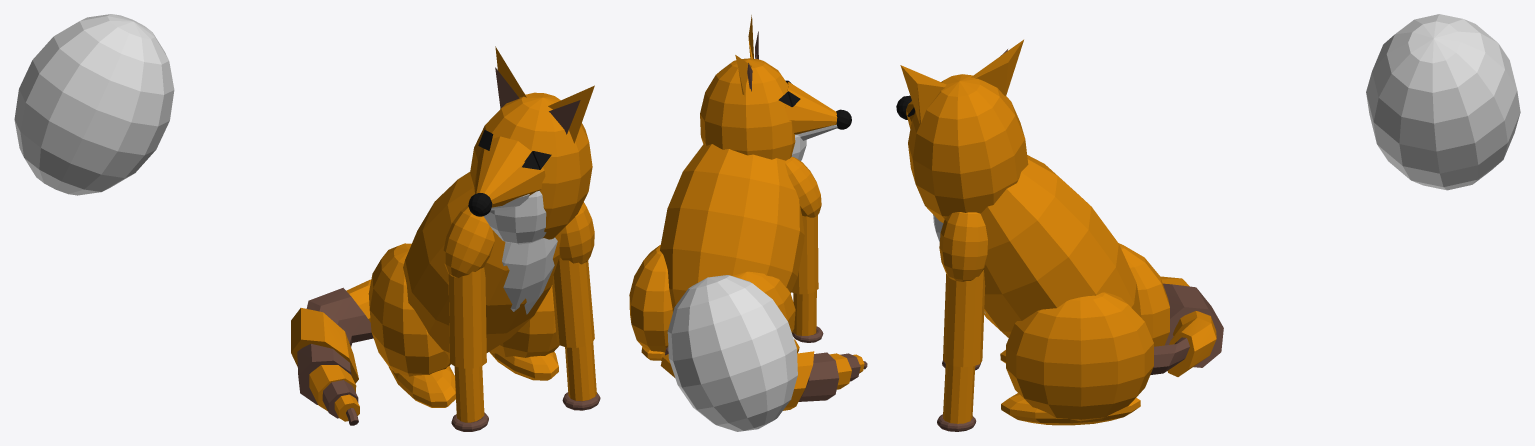
3 views of the same model, side by side, from view 1: azimuth 30°, elevation 25°; view 2: azimuth 150°, elevation 25°; view 3: azimuth 270°, elevation 25° (orthographic). The views are drawn at different scales.
Visible parts, largest first — view 1: node_MeshObject1130604544-PolyPaper21; view 2: node_MeshObject1130604544-PolyPaper21; view 3: node_MeshObject1130604544-PolyPaper21.
Boxes of the visible parts, box(x1,y1,x2,y2) form: node_MeshObject1130604544-PolyPaper21: box(14, 14, 600, 431); node_MeshObject1130604544-PolyPaper21: box(629, 15, 867, 431); node_MeshObject1130604544-PolyPaper21: box(896, 14, 1520, 431).
Bounding box in the file's own units: 0.8611 × 0.8206 × 1.26.
